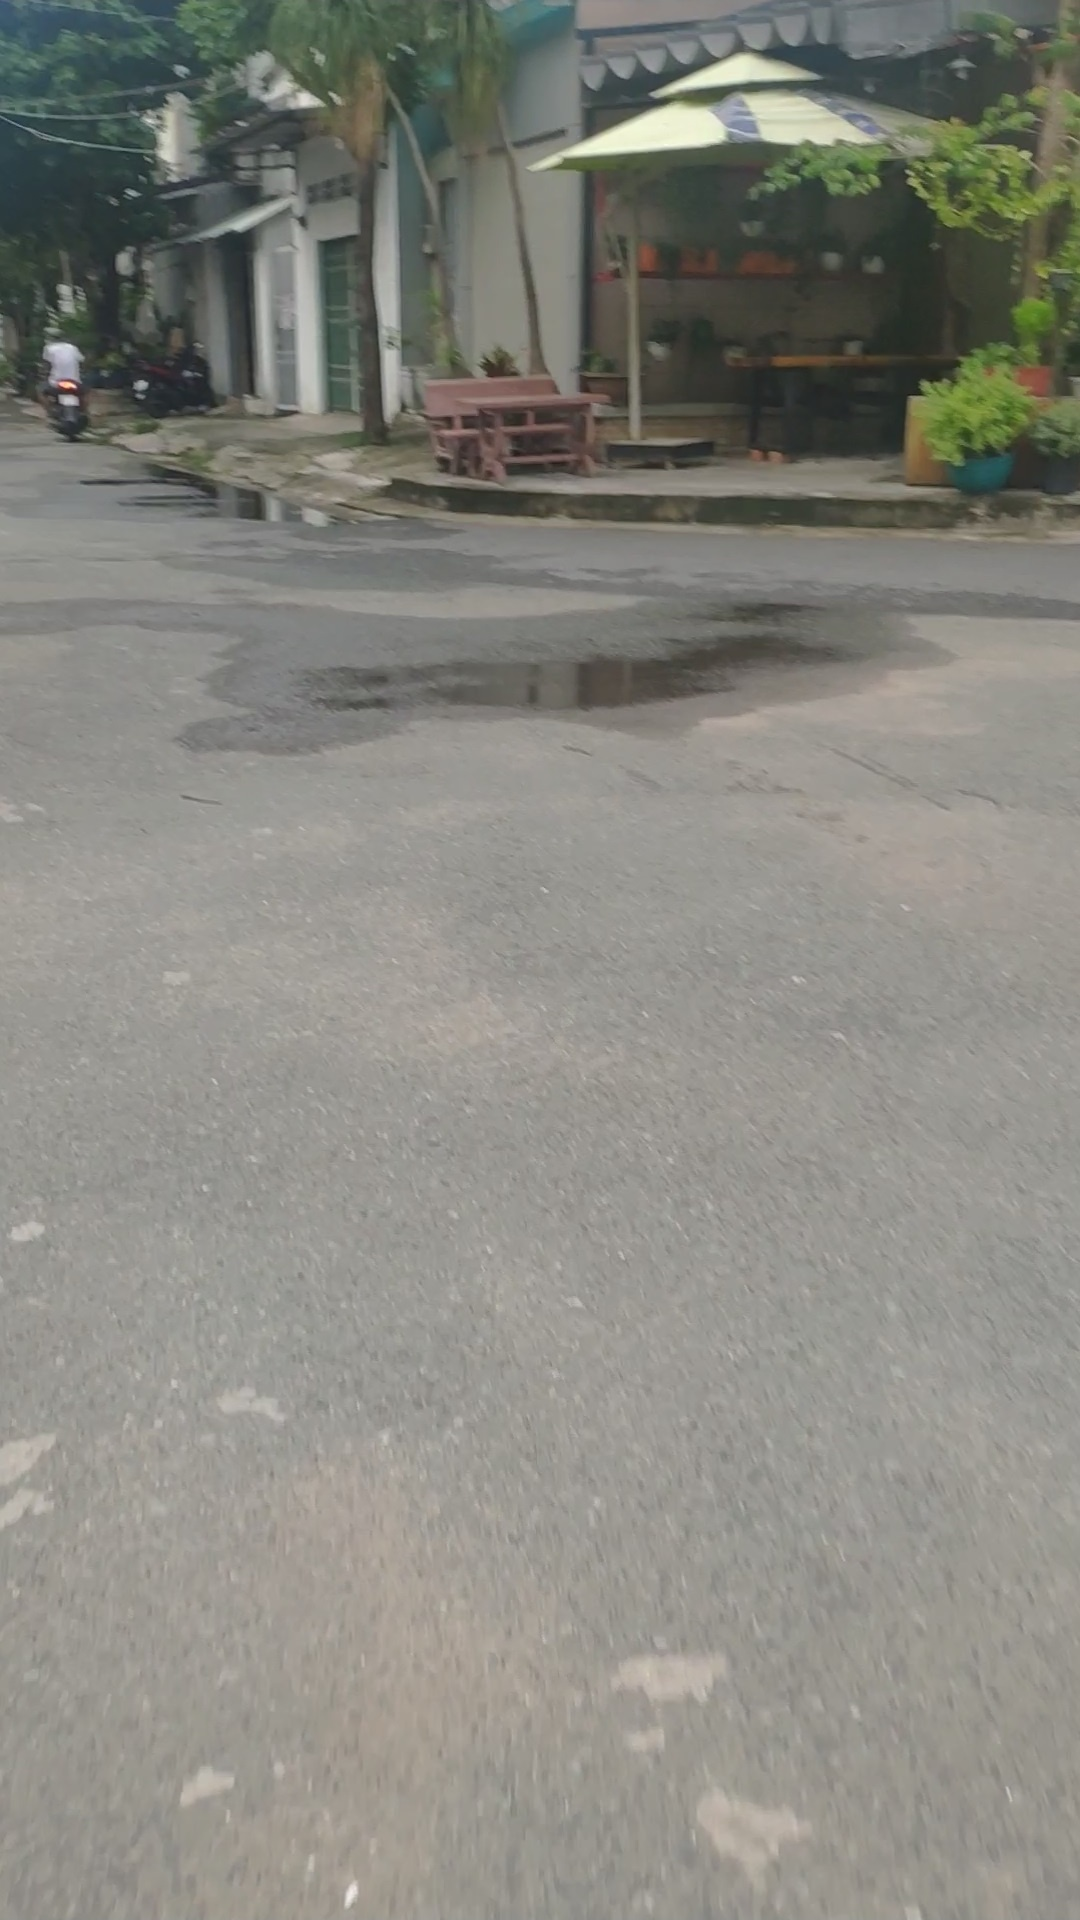hole: (293, 636, 777, 725)
